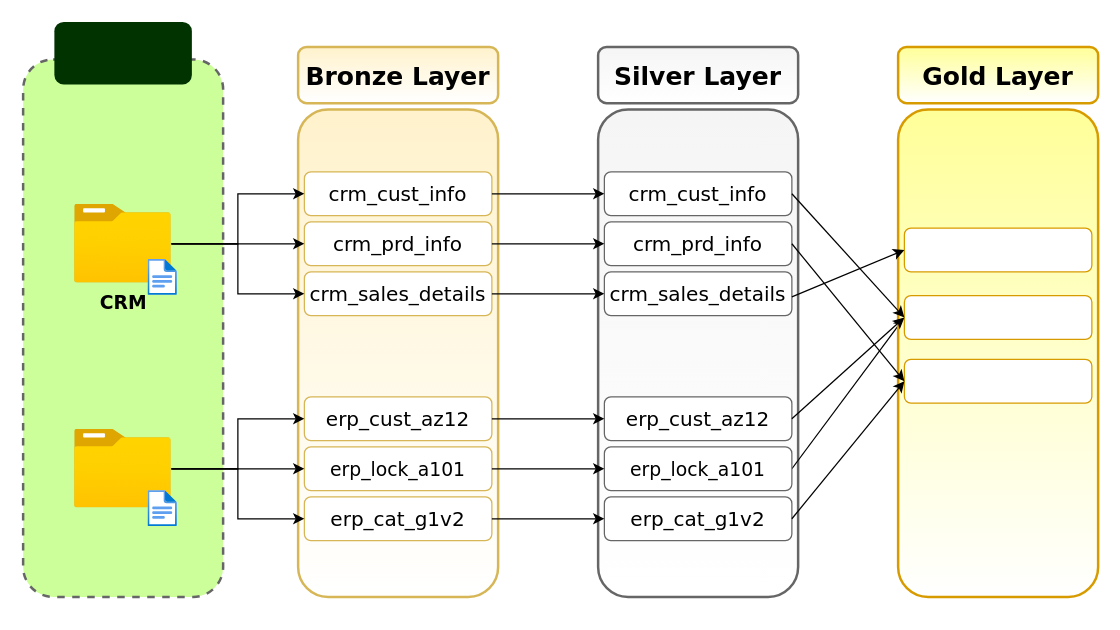
Image size: 1120x630. Some labels were removed from this diagram. Here are the shapes that lost their labels. From the top down, the centre of each, then its label:
At (122,52): "Sources".
At (997,249): "fact_sales".
At (997,316): "dim_customers".
At (997,380): "dim_products".
At (122,468): "ERP".
